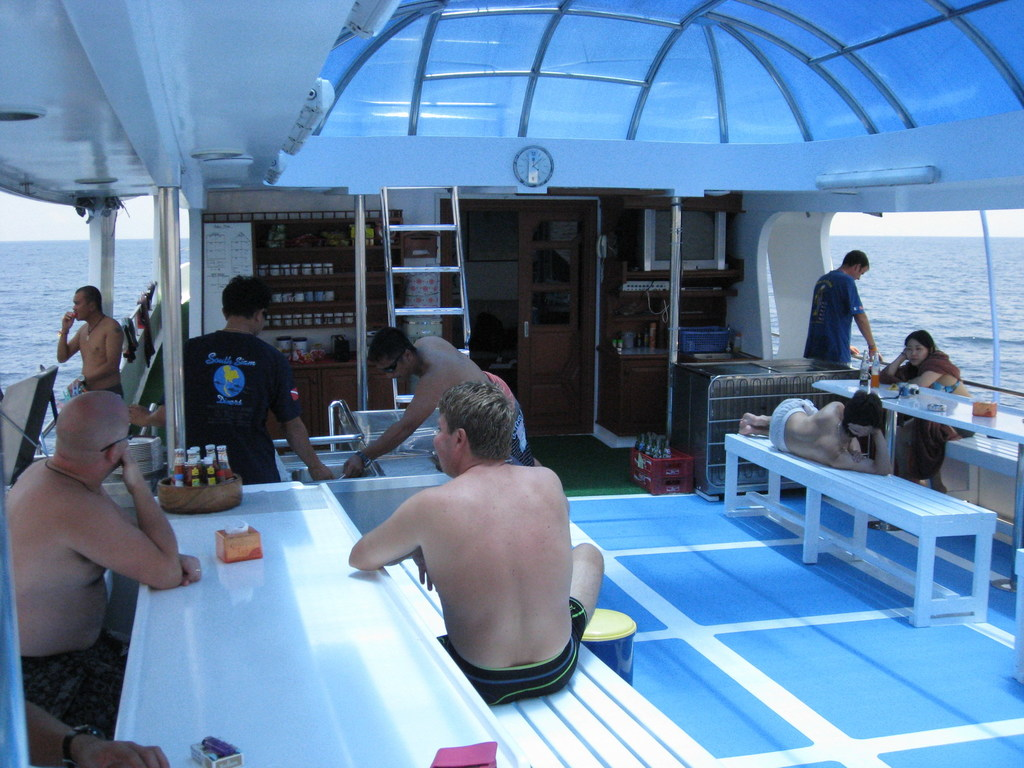Human_hand: (75, 739, 174, 767), (410, 545, 438, 594), (177, 553, 203, 588), (123, 445, 145, 483), (340, 455, 369, 479), (307, 465, 335, 483), (129, 405, 149, 429), (844, 425, 875, 440), (60, 312, 79, 331), (64, 380, 81, 397), (867, 347, 887, 360), (849, 347, 862, 358)
